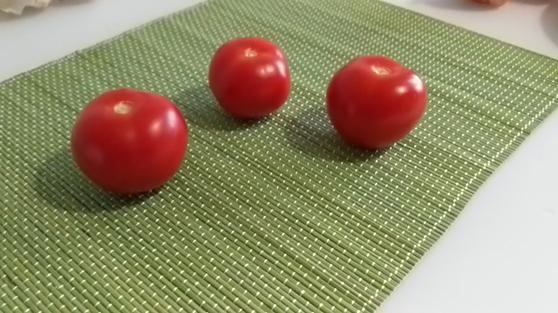tomato: (77, 85, 193, 200), (324, 50, 424, 146), (209, 32, 290, 122)
